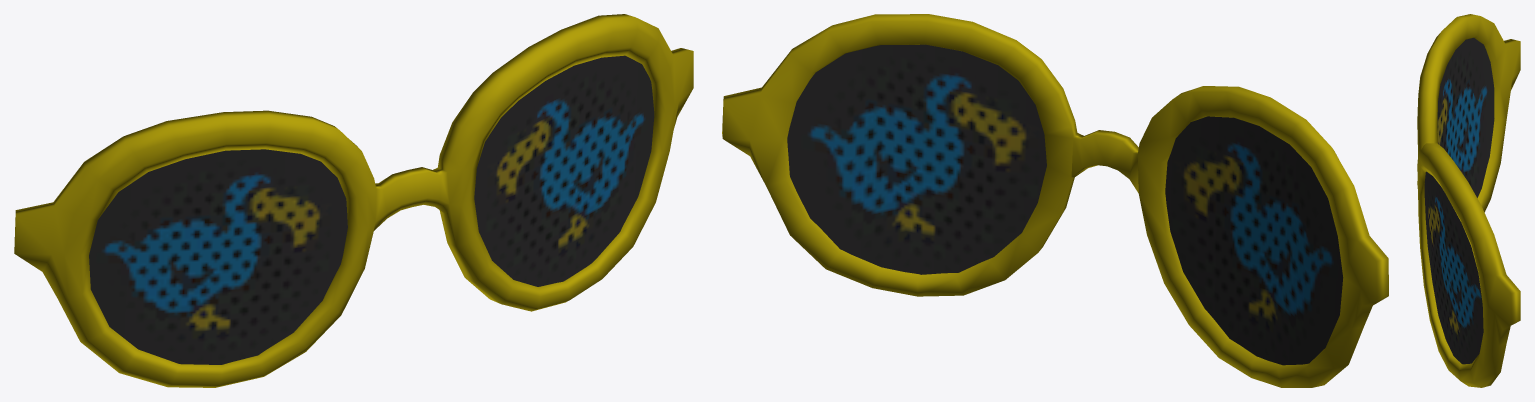
The model's file is AccessoryGlassDalglass0.glb.
3 renders of one model, left to right at view 1: azimuth 30°, elevation 25°; view 2: azimuth 150°, elevation 25°; view 3: azimuth 270°, elevation 25°, orthographic. The views are drawn at different scales.
Parts seen in each view (by area): view 1: Accessory__mAccessory; view 2: Accessory__mAccessory; view 3: Accessory__mAccessory.
Part boxes in pixels (bbox=[...]): Accessory__mAccessory: bbox=[14, 14, 693, 387]; Accessory__mAccessory: bbox=[722, 14, 1388, 387]; Accessory__mAccessory: bbox=[1417, 14, 1520, 387].
Bounding box in the file's own units: 6.38 × 2.48 × 1.09.
Materials: 1 (1 with a texture image).
